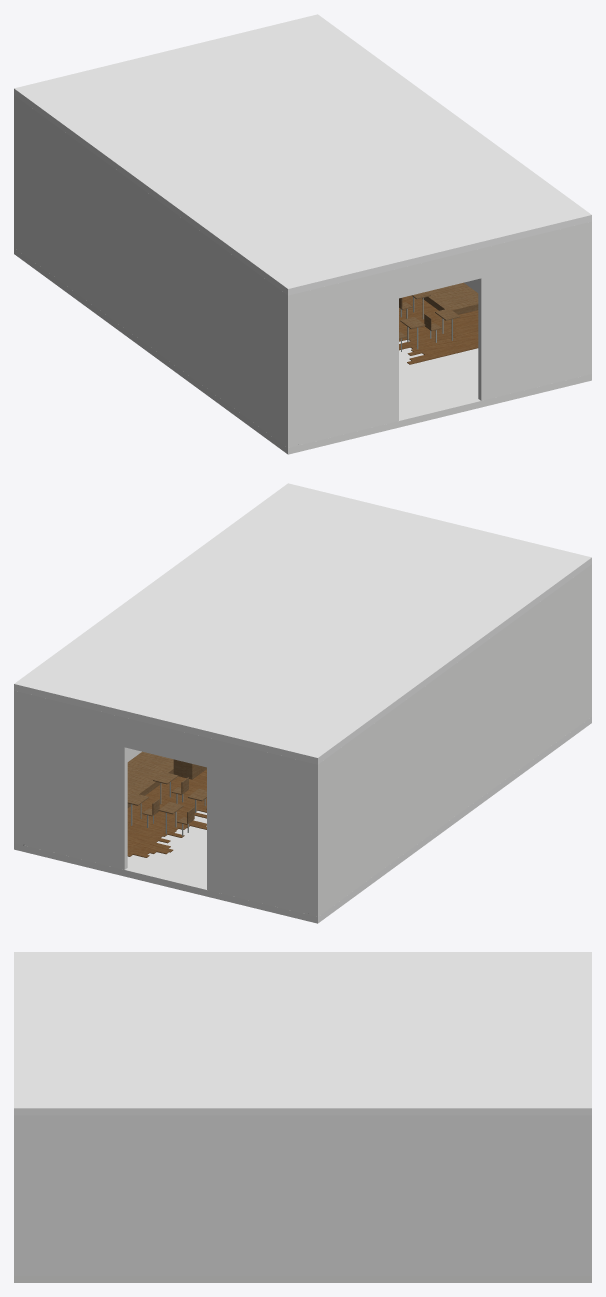
The model's file is room_classroom_s1.glb.
The picture shows the model from 3 angles, top to bottom: view 1: azimuth 30°, elevation 25°; view 2: azimuth 150°, elevation 25°; view 3: azimuth 270°, elevation 25°; orthographic projection. The views are drawn at different scales.
Visible parts, largest first — view 1: room_classroom_s1_static; view 2: room_classroom_s1_static; view 3: room_classroom_s1_static.
Boxes of the visible parts, <box> form: room_classroom_s1_static: <box>14,14,591,454</box>; room_classroom_s1_static: <box>14,483,591,923</box>; room_classroom_s1_static: <box>14,952,591,1282</box>.
Bounding box in the file's own units: 9.6 × 5 × 15.
16 materials, 3 textured.
